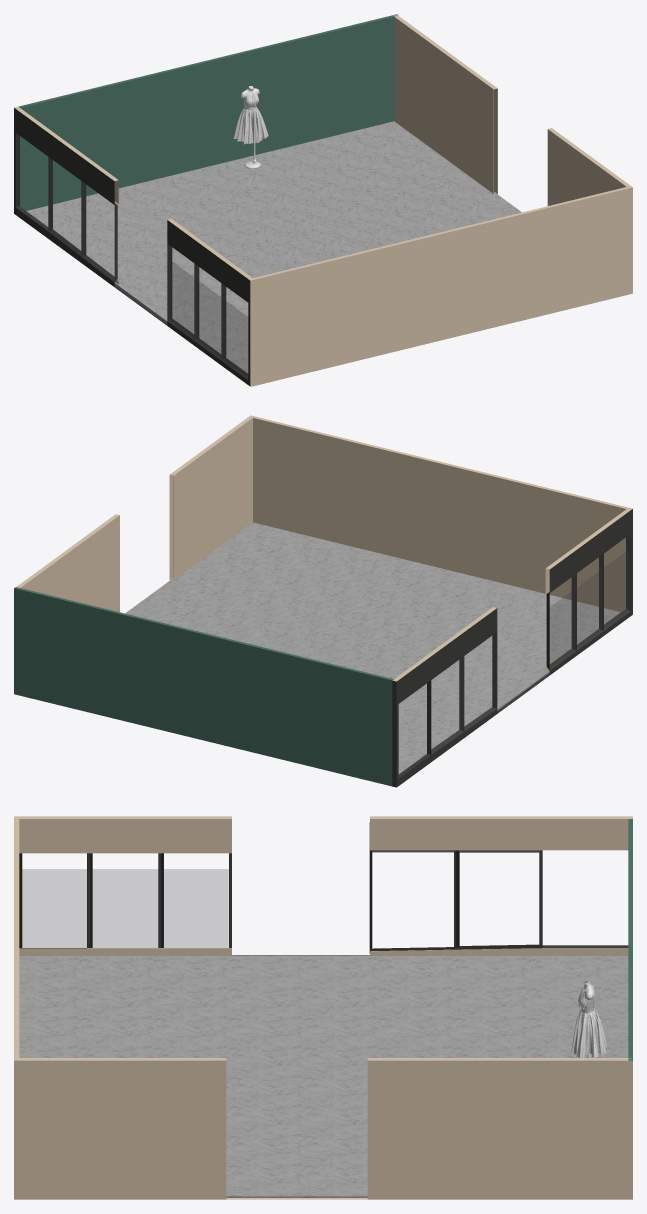
Rendered from Update_Walls & Model.fbx.
3 views of the same model, one above another, from view 1: azimuth 30°, elevation 25°; view 2: azimuth 150°, elevation 25°; view 3: azimuth 270°, elevation 25° (orthographic). The views are drawn at different scales.
Visible parts, largest first — view 1: Cube, Plane, front_glass, Feet; view 2: Cube, Plane, front_glass; view 3: Cube, Plane, front_glass, Feet.
Boxes of the visible parts, bbox=[...] form: Cube: bbox=[14, 14, 632, 386]; Plane: bbox=[26, 121, 630, 386]; front_glass: bbox=[170, 260, 247, 376]; Feet: bbox=[233, 86, 268, 168]; Cube: bbox=[14, 415, 632, 787]; Plane: bbox=[125, 522, 620, 773]; front_glass: bbox=[550, 550, 628, 667]; Cube: bbox=[14, 816, 632, 1199]; Plane: bbox=[19, 955, 628, 1197]; front_glass: bbox=[19, 869, 228, 947]; Feet: bbox=[571, 981, 607, 1057].
Bounding box in the file's own units: 1916 × 511 × 2049.
